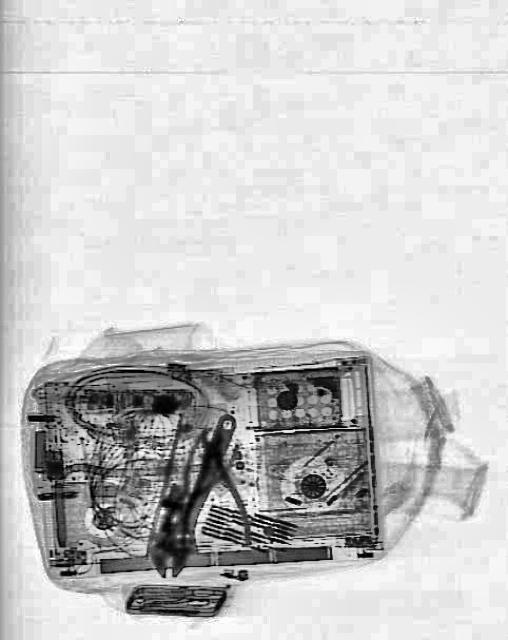Pliers: (180, 424, 250, 556)
Wrench: (140, 404, 250, 586)
